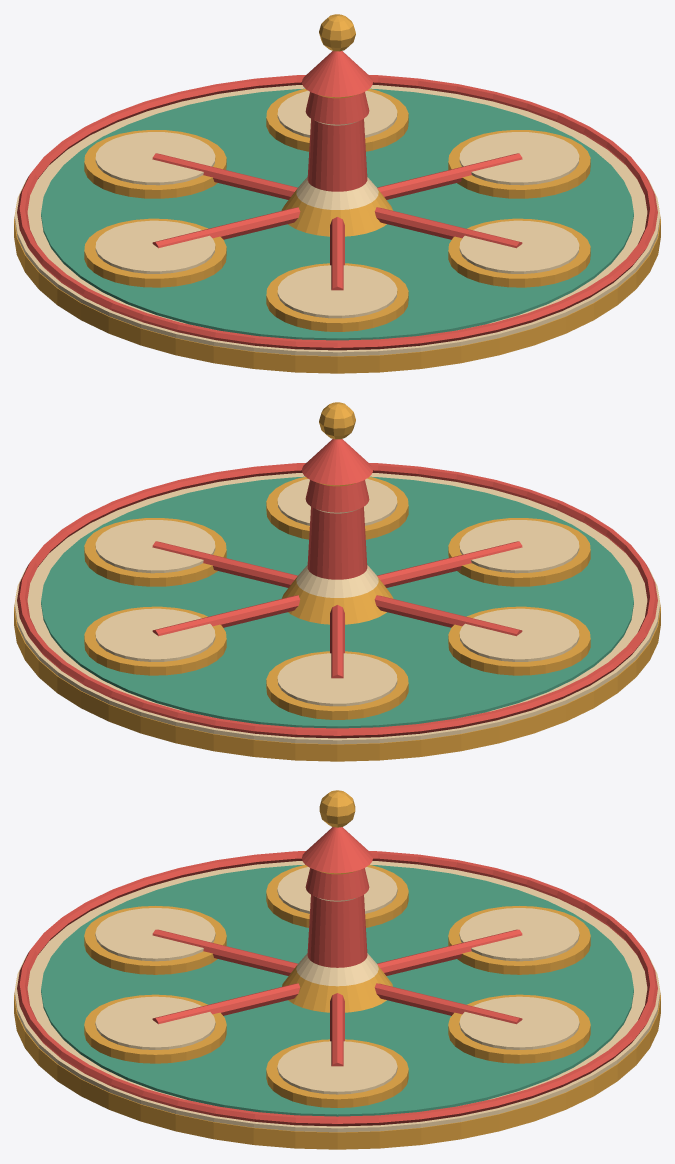
File: ParkParkDuckHub.obj
3 views of the same model, one above another, from view 1: azimuth 30°, elevation 25°; view 2: azimuth 150°, elevation 25°; view 3: azimuth 270°, elevation 25° (orthographic).
Visible parts, largest first — view 1: ParkParkDuckHub; view 2: ParkParkDuckHub; view 3: ParkParkDuckHub.
Part boxes in pixels (x1,y1,x2,y2): ParkParkDuckHub: [14, 14, 660, 373]; ParkParkDuckHub: [14, 402, 660, 761]; ParkParkDuckHub: [14, 790, 660, 1149].
Size of the model in its own units: 17.24 by 6.5 by 17.24.
